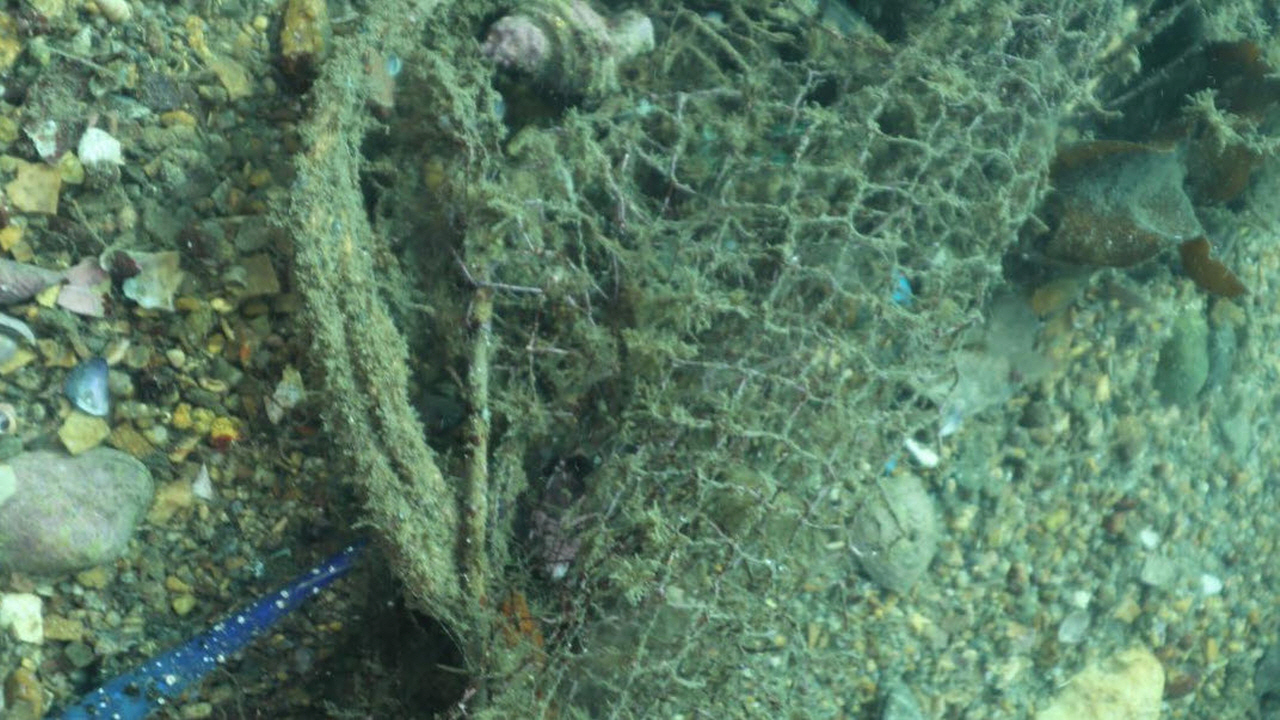fish net: (447, 0, 1125, 720)
